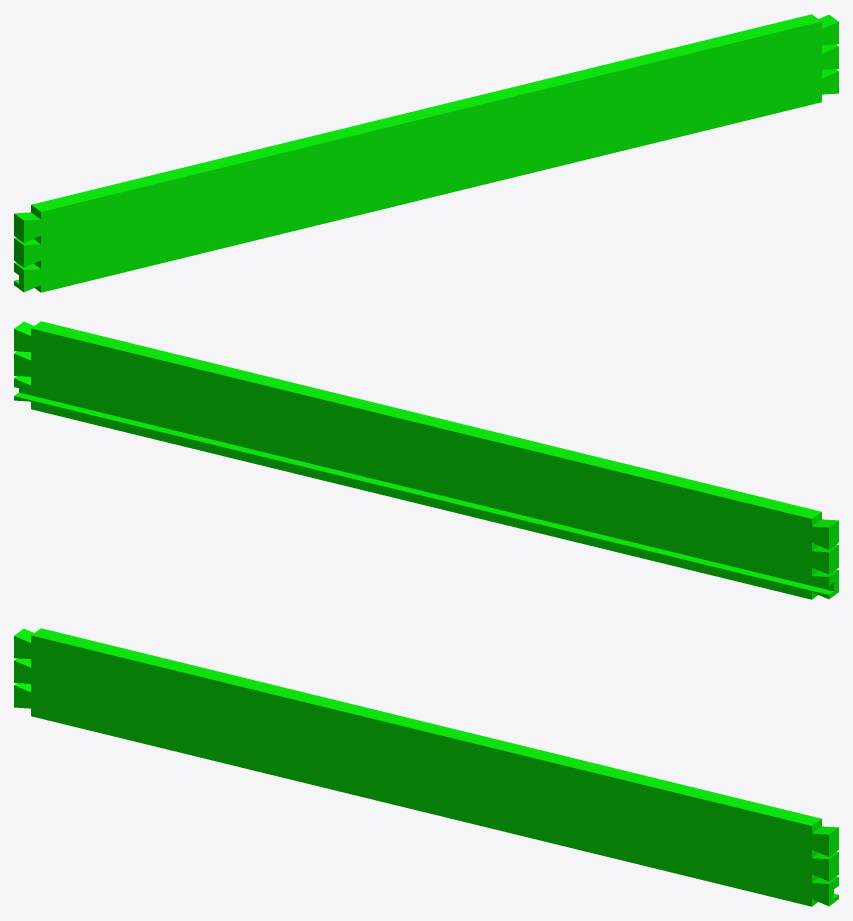
Rendered from original-7.obj.
3 renders of one model, top to bottom at view 1: azimuth 30°, elevation 25°; view 2: azimuth 150°, elevation 25°; view 3: azimuth 330°, elevation 25°, orthographic.
Visible parts, largest first — view 1: Group7/mesh9/mesh9-geometry#mesh9-geometry; view 2: Group7/mesh9/mesh9-geometry#mesh9-geometry; view 3: Group7/mesh9/mesh9-geometry#mesh9-geometry.
Boxes of the visible parts, <box> form: Group7/mesh9/mesh9-geometry#mesh9-geometry: <box>14,14,838,292</box>; Group7/mesh9/mesh9-geometry#mesh9-geometry: <box>14,321,838,599</box>; Group7/mesh9/mesh9-geometry#mesh9-geometry: <box>14,628,838,906</box>.
Bounding box in the file's own units: 0.9357 × 0.0886 × 0.0197.
